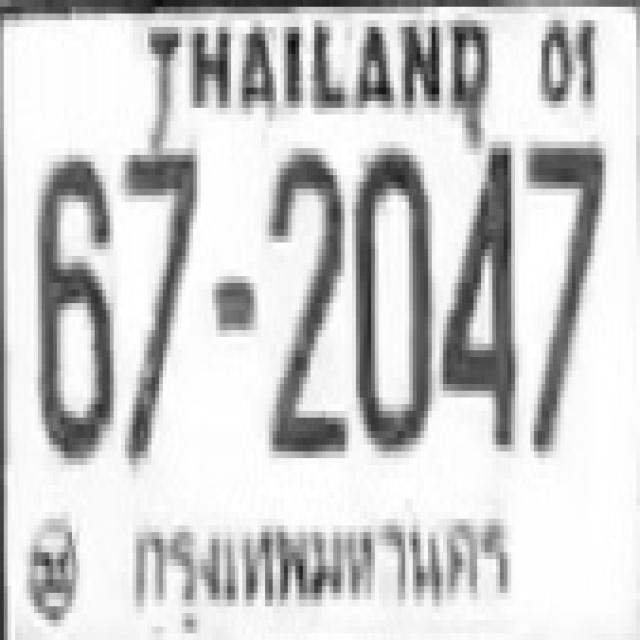0: (352, 142, 428, 444)
2: (267, 142, 343, 452)
4: (439, 134, 515, 444)
6: (34, 148, 110, 452)
7: (523, 135, 602, 451), (121, 138, 197, 462)
BKK: (117, 498, 519, 631)
